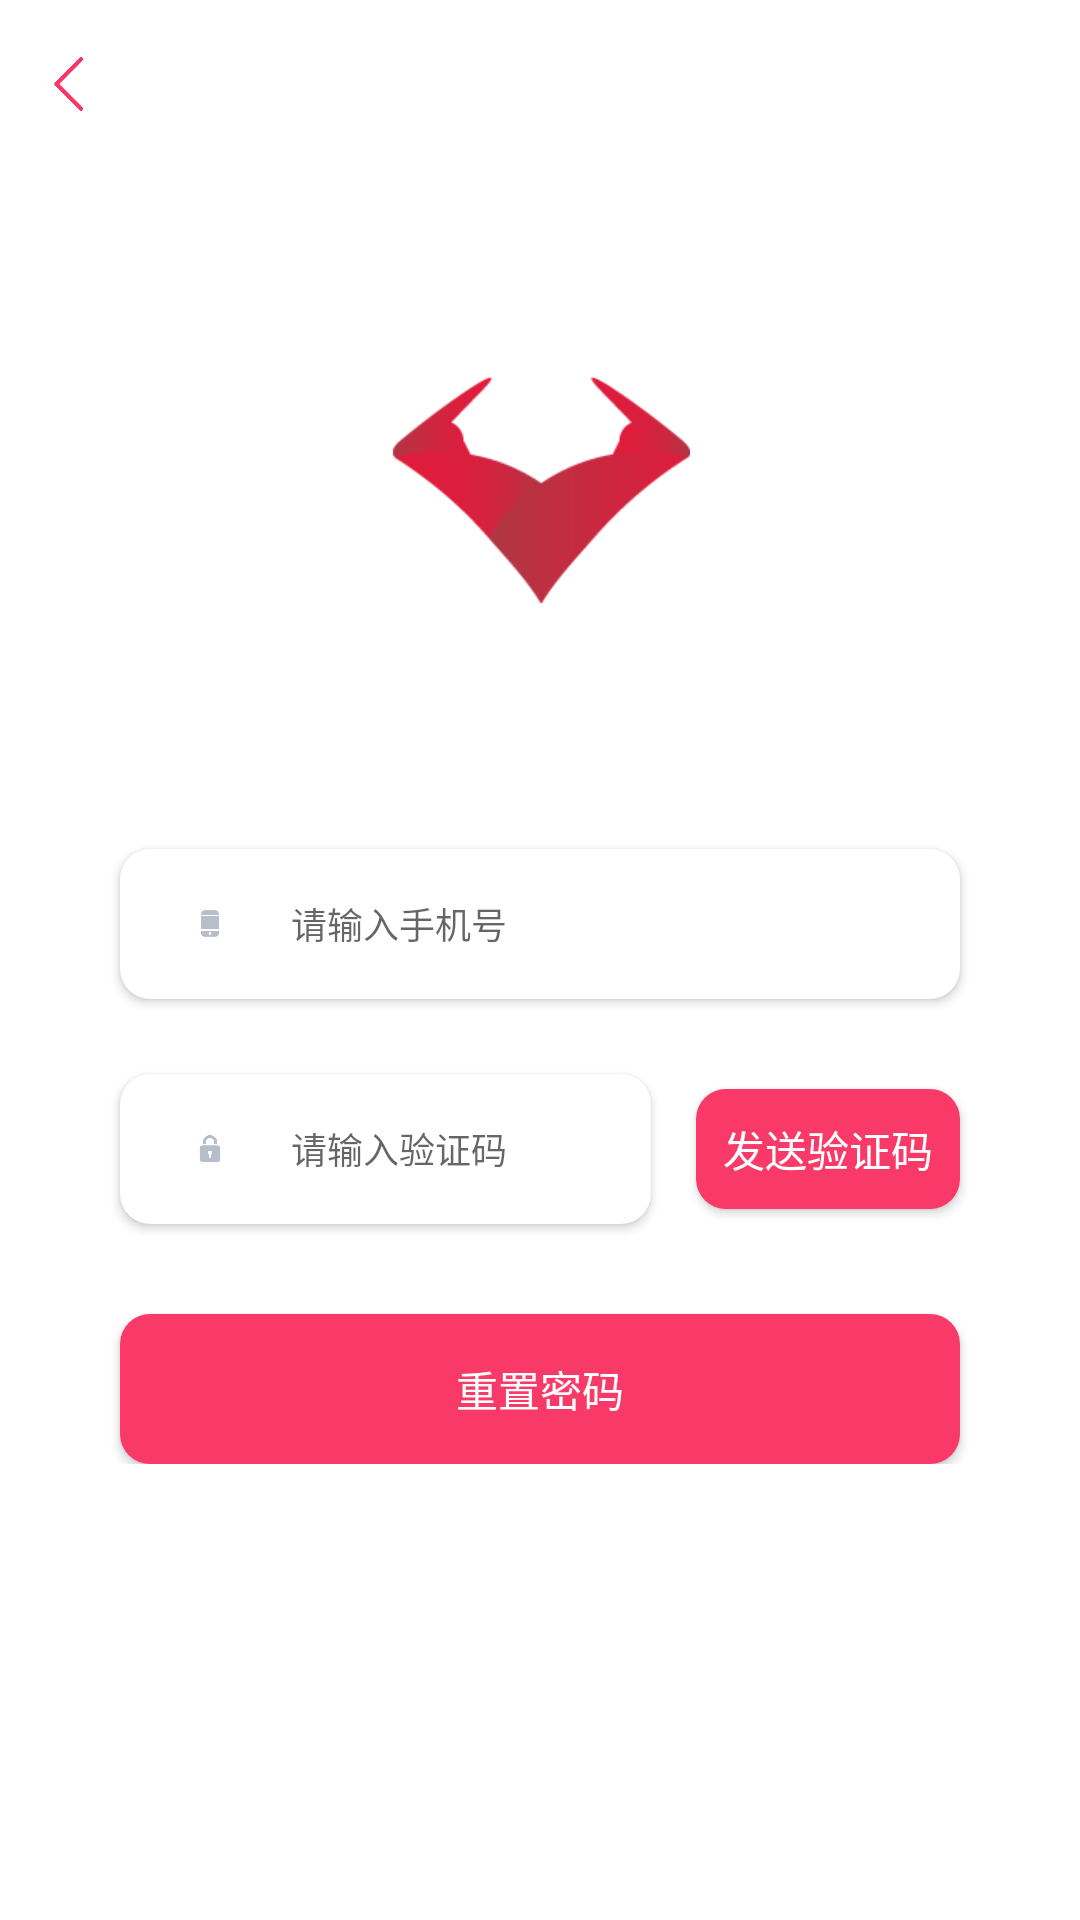

Point at icon controls on the screen. Image size 1080×1920, points as point (x, y).
home back: point (68, 84)
phone: point (210, 923)
